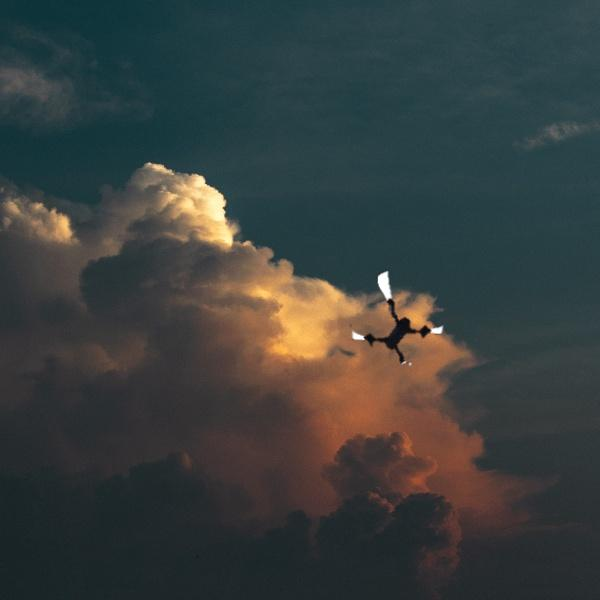drone: (345, 267, 451, 373)
